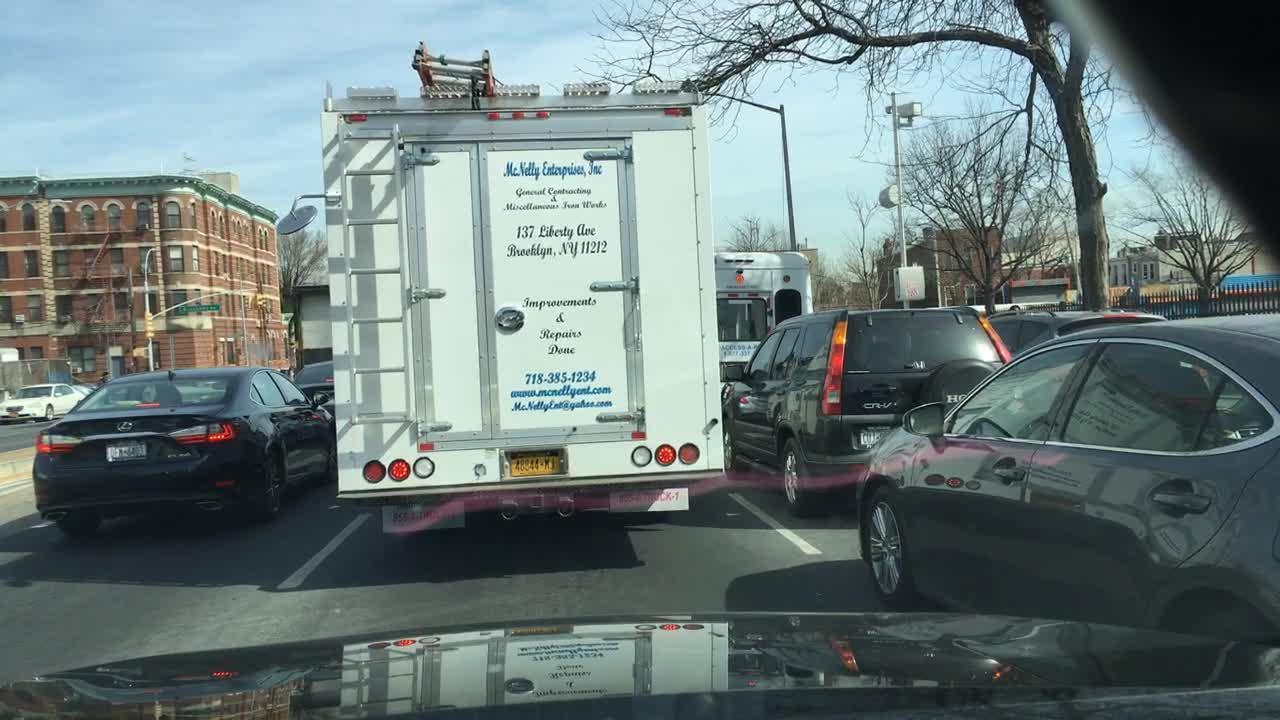Honda: (912, 358, 927, 371)
lexus: (113, 420, 135, 435)
